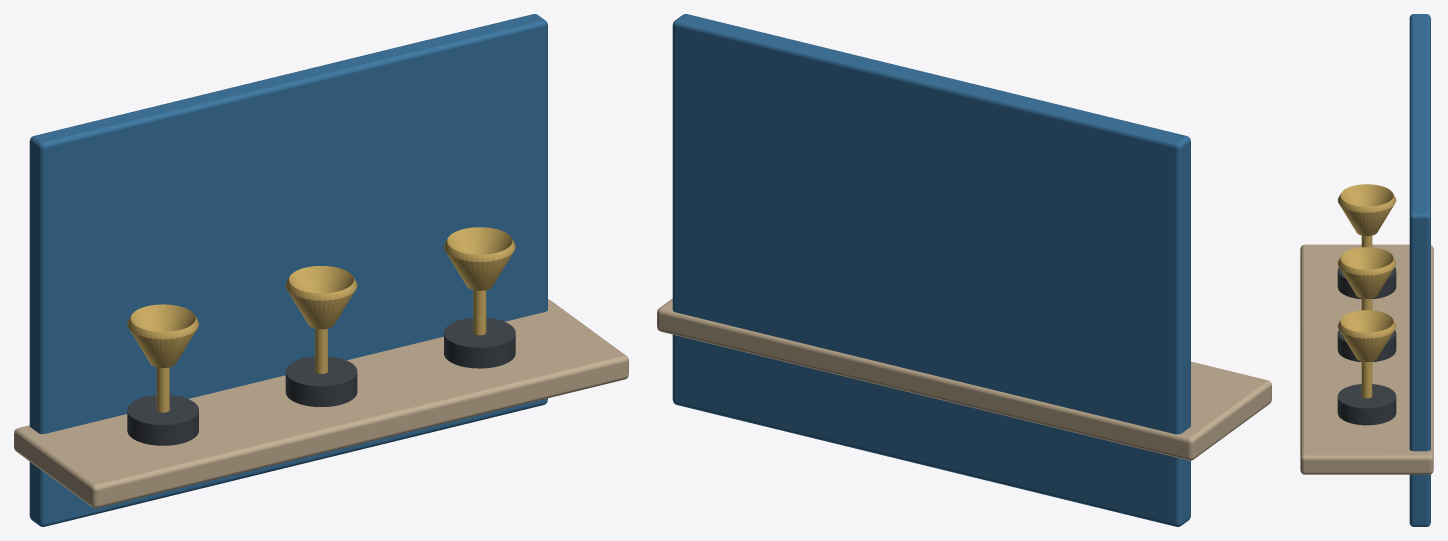
Rendered from fencing-club-and-tournament-piste-trophy-shelf-fcd89d1b__31253.glb.
3 renders of one model, left to right at view 1: azimuth 30°, elevation 25°; view 2: azimuth 150°, elevation 25°; view 3: azimuth 270°, elevation 25°, orthographic. The views are drawn at different scales.
Visible parts, largest first — view 1: trophy-shelf; view 2: trophy-shelf; view 3: trophy-shelf.
Boxes of the visible parts, left/top/right/bottom form: trophy-shelf: left=14, top=14, right=628, bottom=526; trophy-shelf: left=657, top=14, right=1271, bottom=526; trophy-shelf: left=1300, top=14, right=1433, bottom=526.
Size of the model in its own units: 0.95 by 0.65 by 0.2501.
